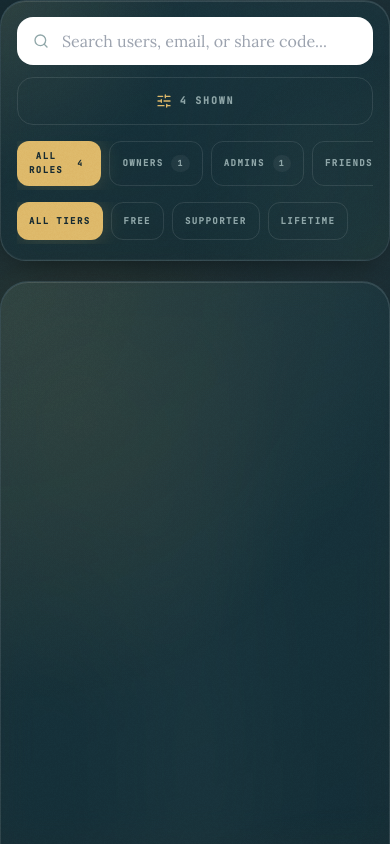
UsersTab › filters users by role and search term
Click the button "Admins 1".
click(257, 163)  # box [211,141,304,186]
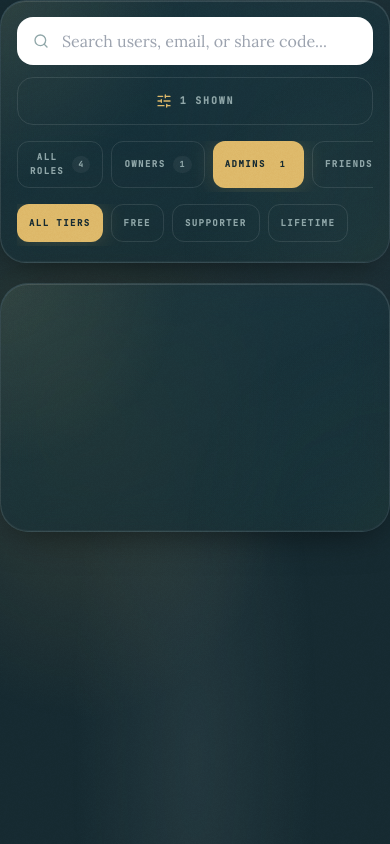
Type "missing" into the field with placeholder "Search users, email, or share code...".
click(195, 41); type("missing")  # box [17,17,373,65]
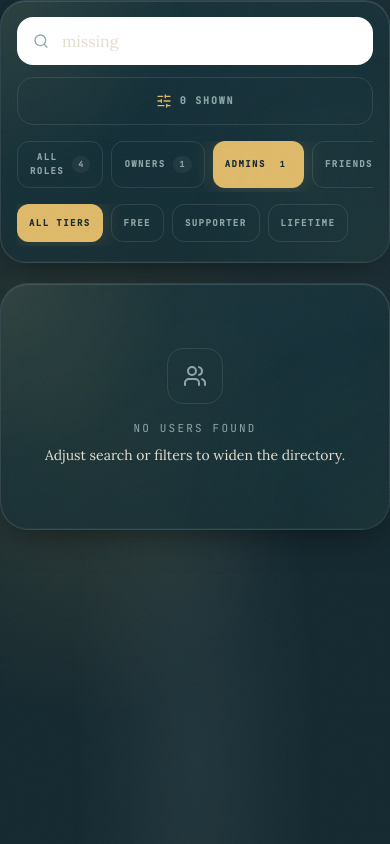
Result: the text "No users found" is shown at [133,421,257,435]
